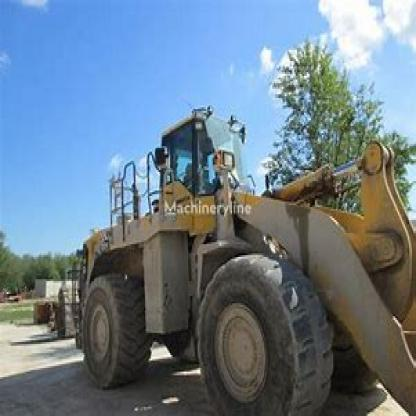bull_dozer/loader/grader: (47, 83, 415, 414)
